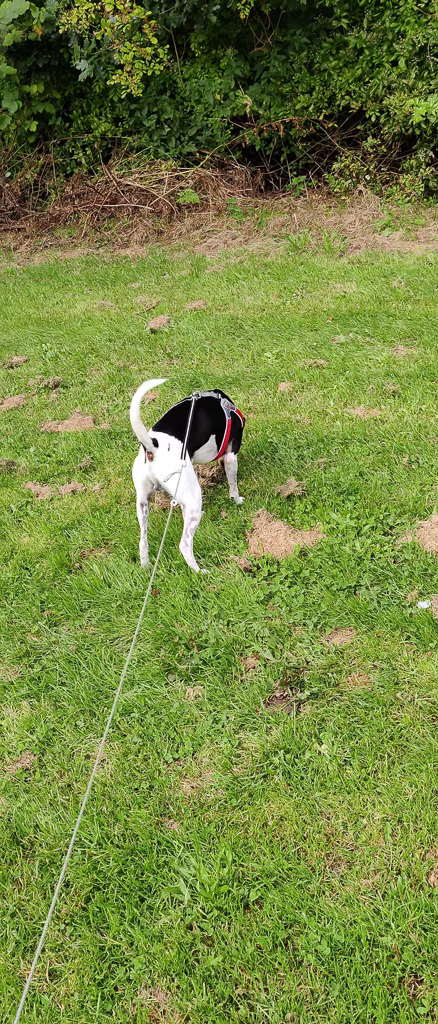Dog: (101, 362, 275, 595)
